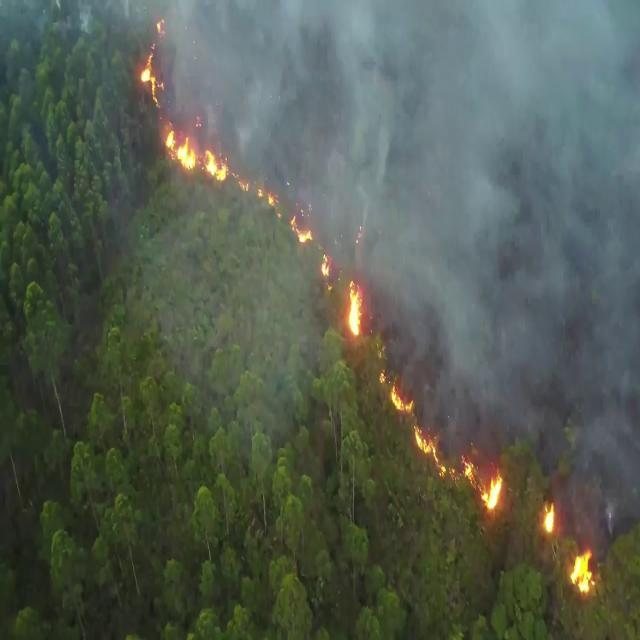Fire: (378, 368, 504, 510), (165, 128, 282, 222), (139, 18, 167, 108), (570, 548, 598, 596), (345, 281, 363, 337), (289, 214, 313, 244), (320, 248, 336, 292), (543, 501, 555, 535)
Smoke: (120, 1, 640, 556)
